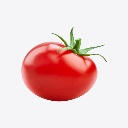tomato: (22, 37, 98, 101)
